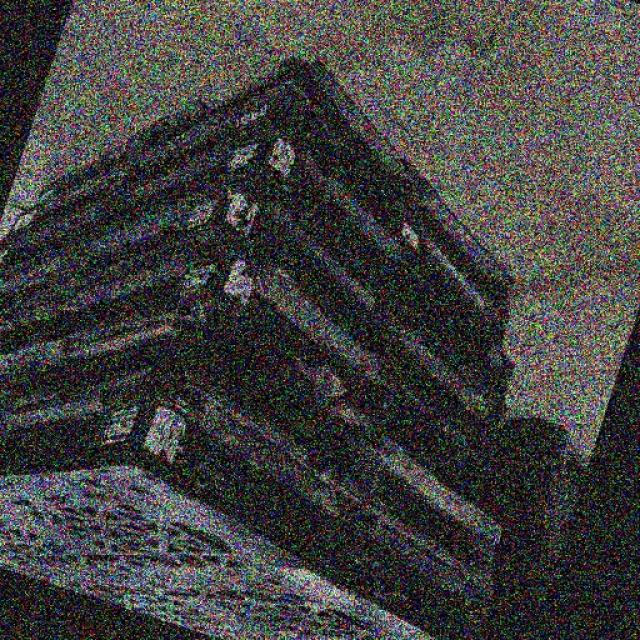igps: (0, 354, 503, 640), (0, 78, 285, 222), (0, 128, 271, 266), (0, 228, 238, 366), (0, 182, 230, 304)
